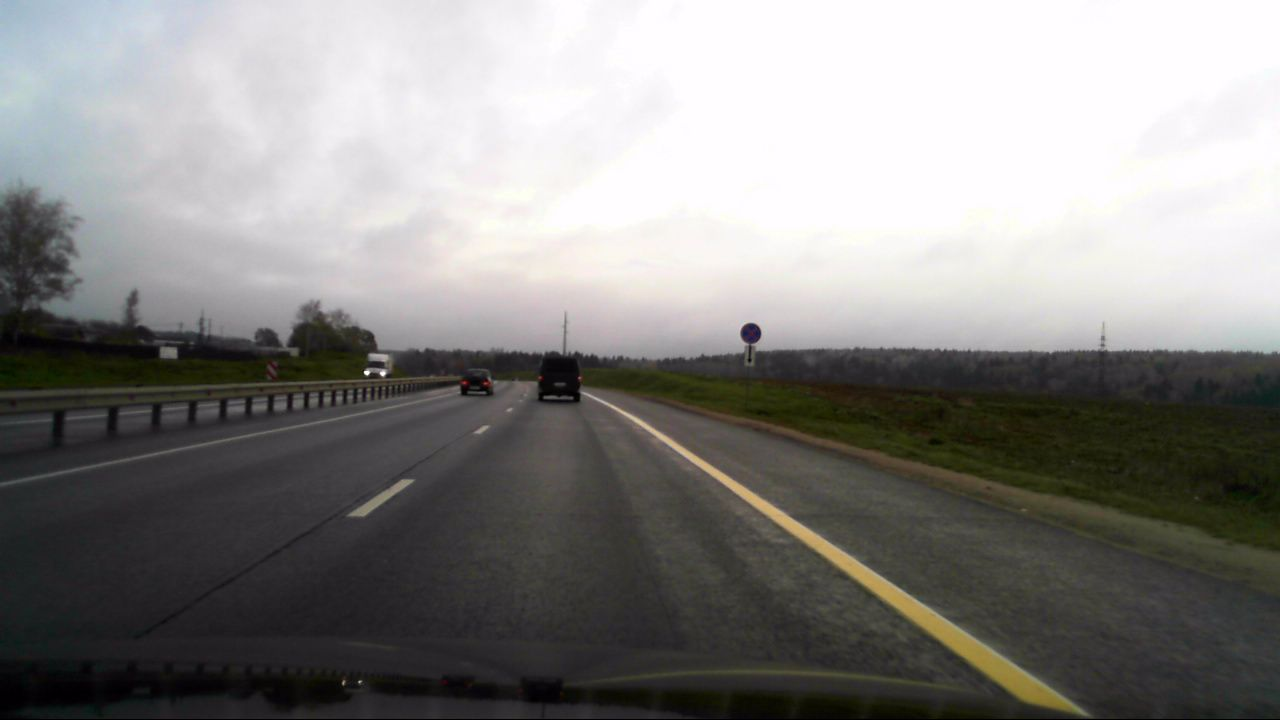No Parking: (740, 322, 761, 343)
